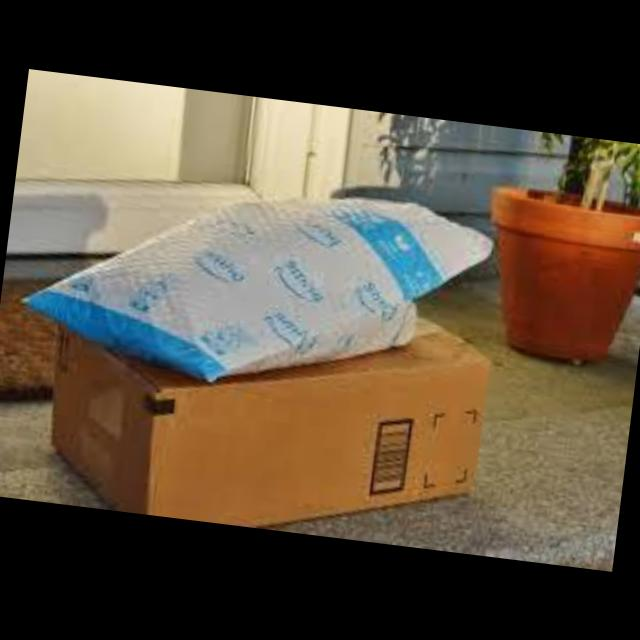box: (45, 305, 490, 519)
mailer: (29, 198, 491, 379)
